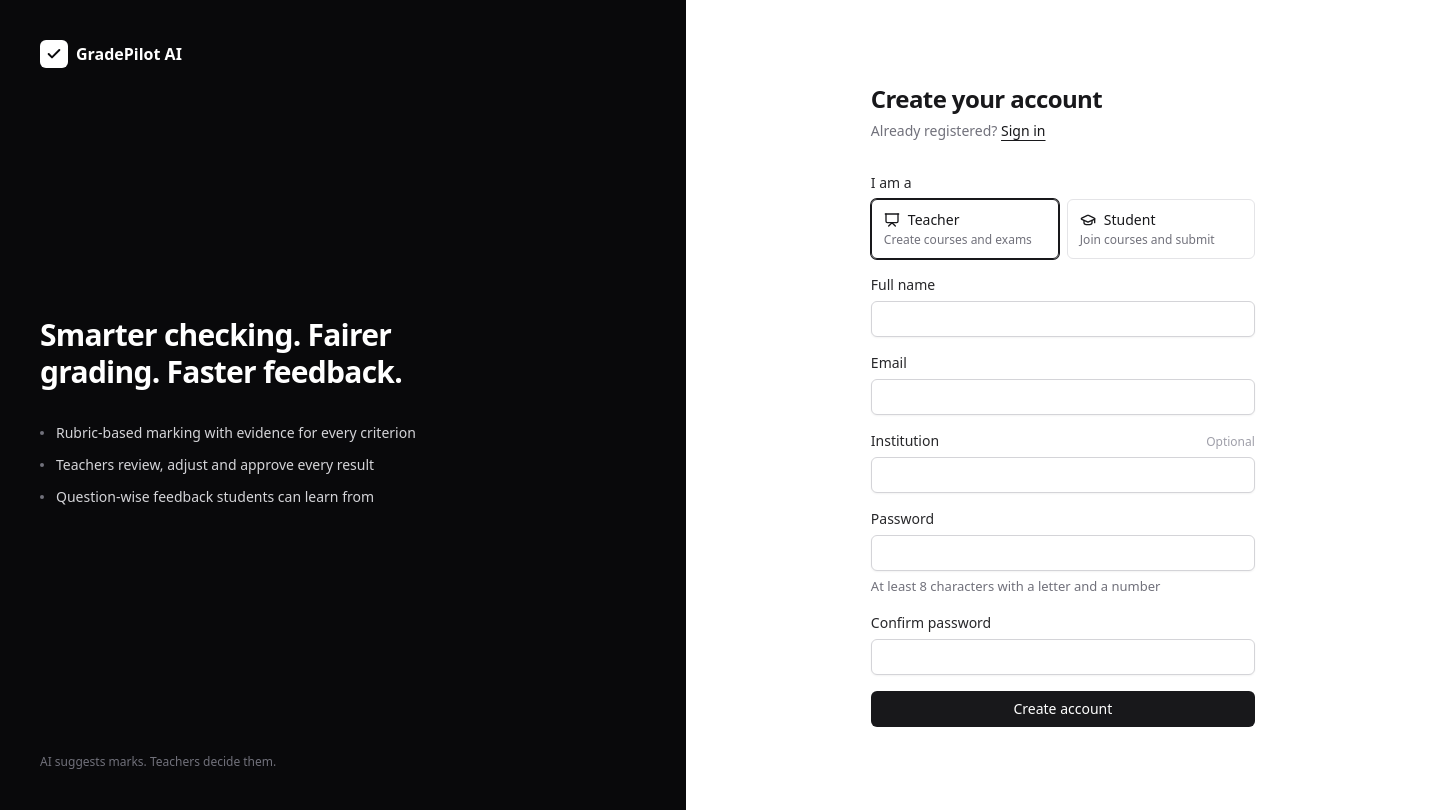
Test: registration › requires a student ID only for students
expect the heading "Create your account" is shown: met, box [871,82,1102,115]
expect the field labelled "Student ID" is not shown: met
Click the radio button labelled "Student Join courses and submit" at [1161, 229], box [1067,199,1255,259]
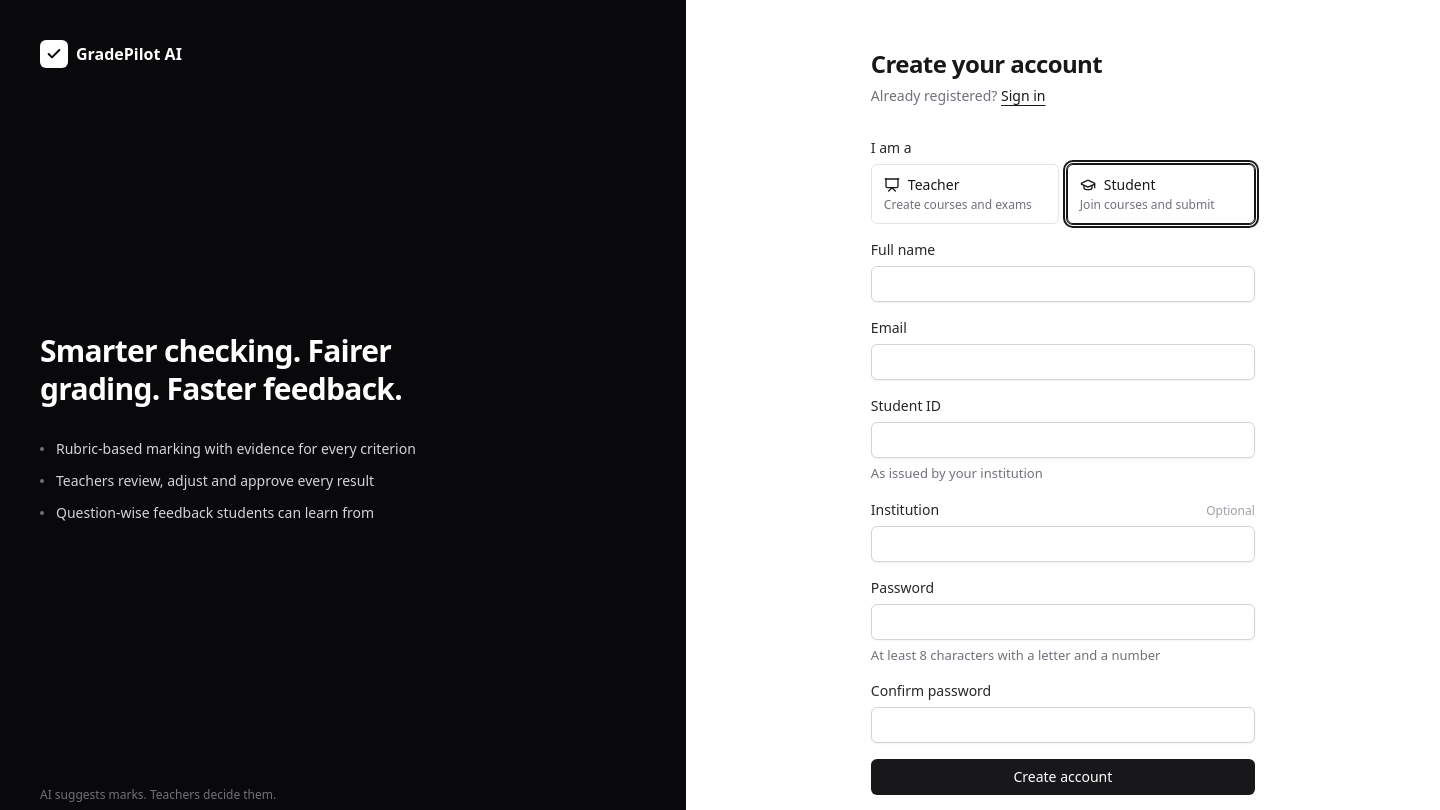
expect the field labelled "Student ID" is shown: met, box [871,422,1255,458]
Type "Sam Student" into the field labelled "Full name" at [1063, 284], box [871,266,1255,302]
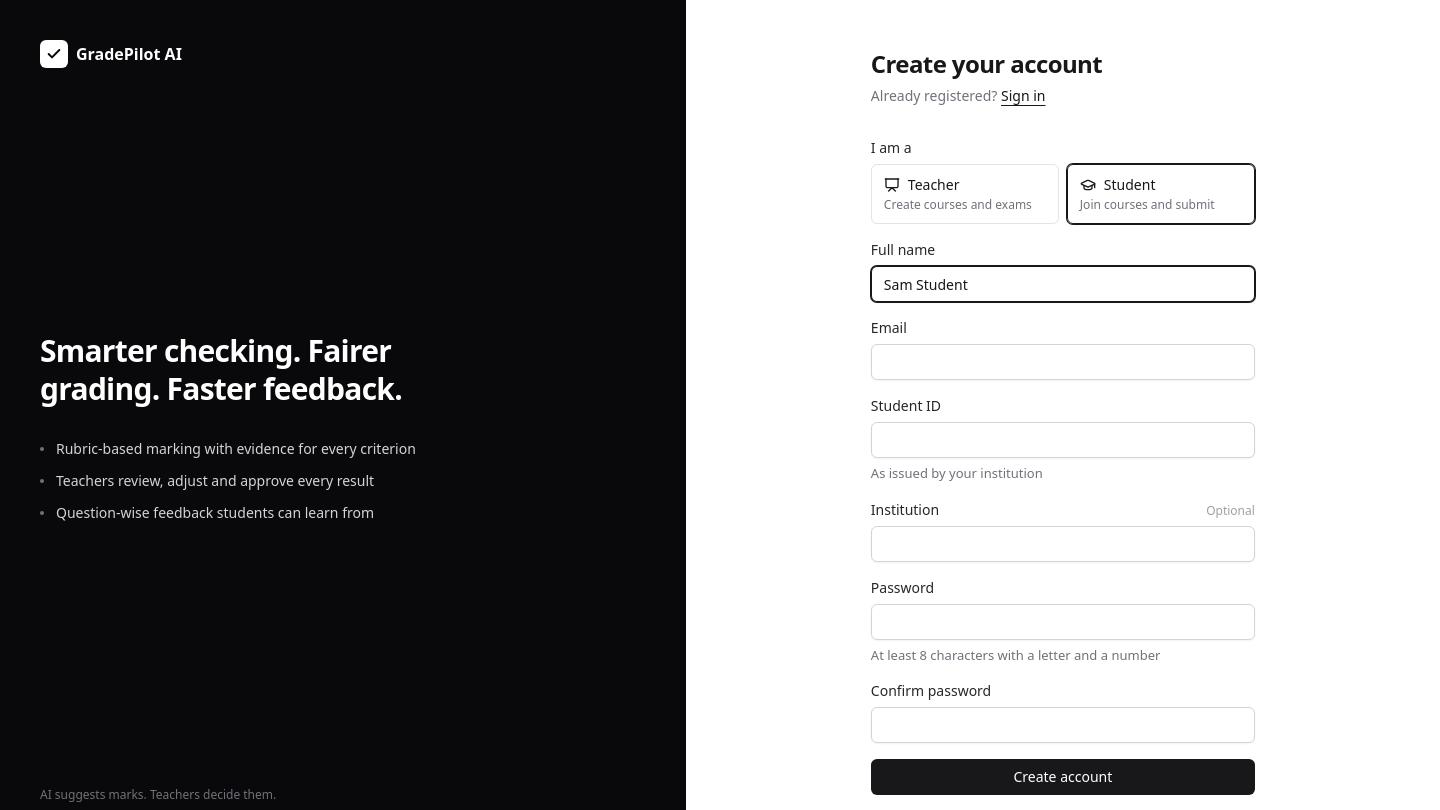
Type "sam@example.edu" into the field labelled "Email" at [1063, 362], box [871,344,1255,380]
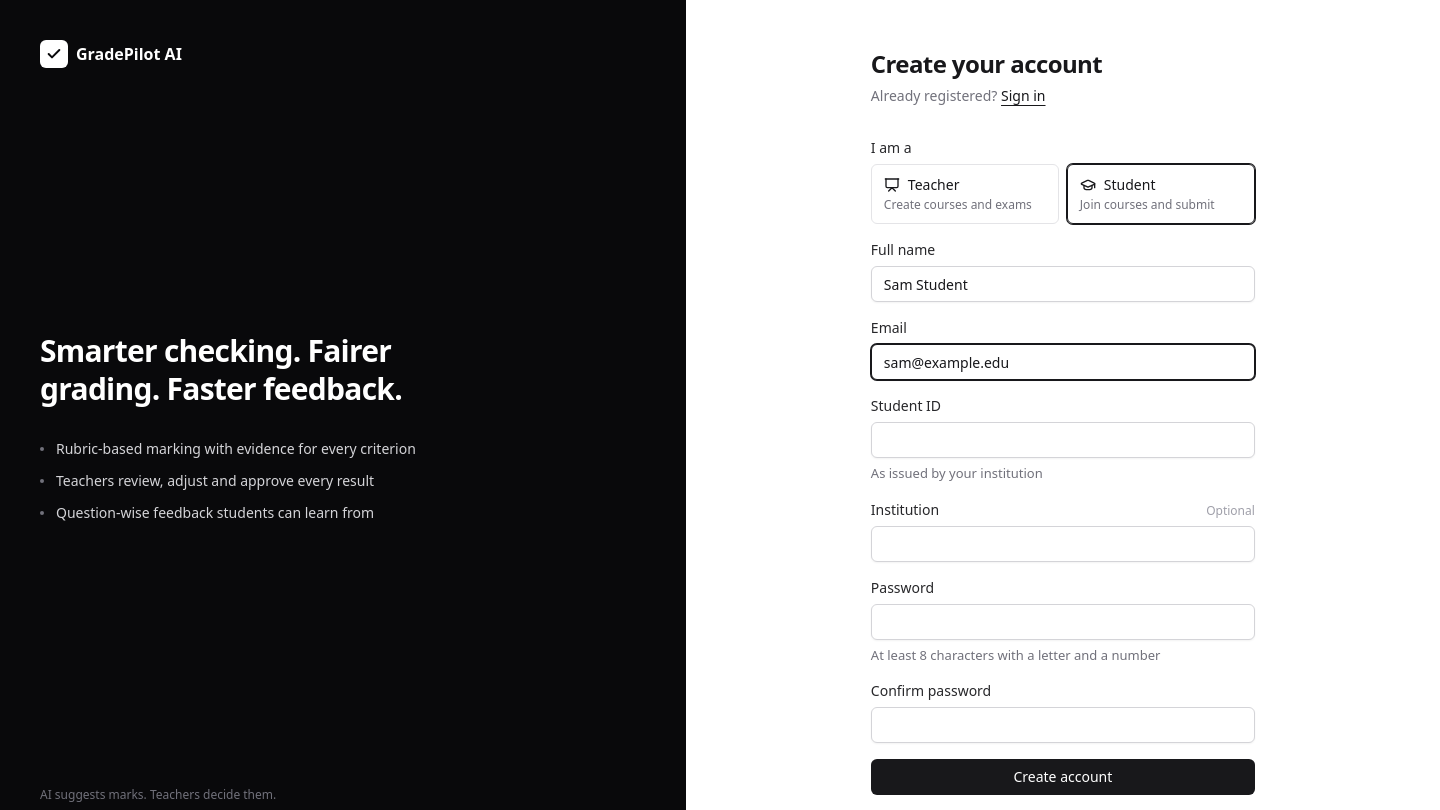
Type "Passw0rd1" into the password field labelled "Password" at [1063, 622], box [871,604,1255,640]
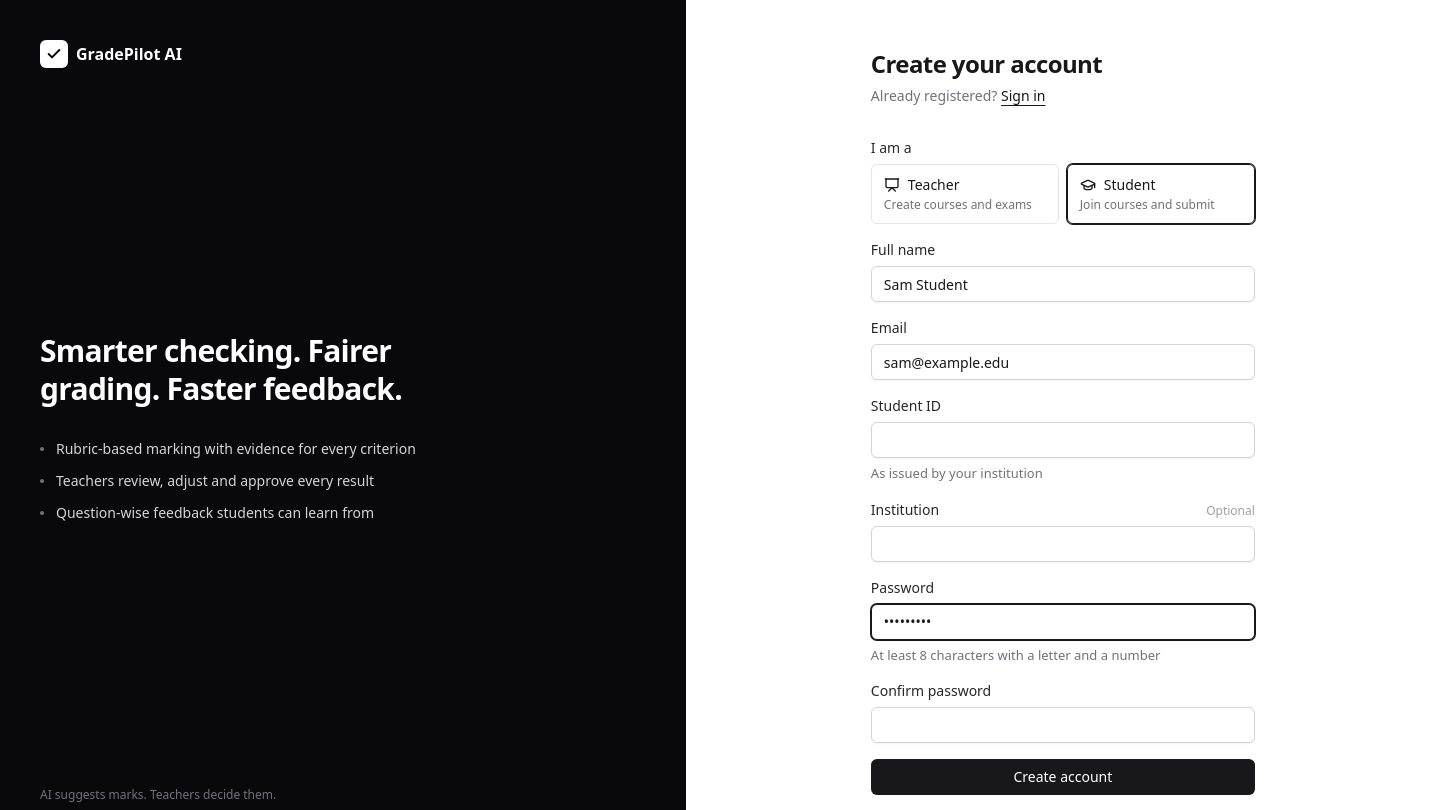
Type "Passw0rd1" into the password field labelled "Confirm password" at [1063, 725], box [871,707,1255,743]
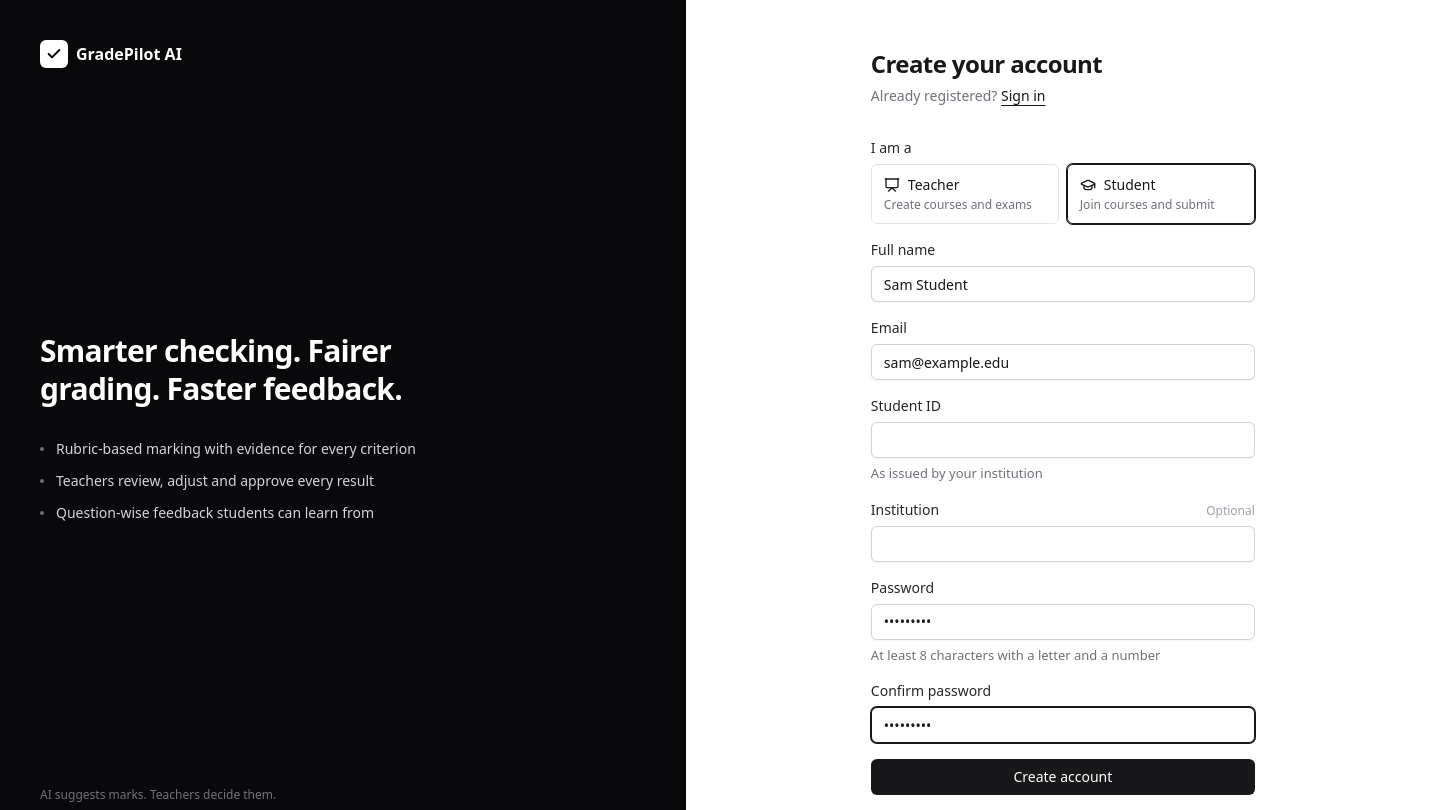
Click the button "Create account" at [1063, 777], box [871,759,1255,795]
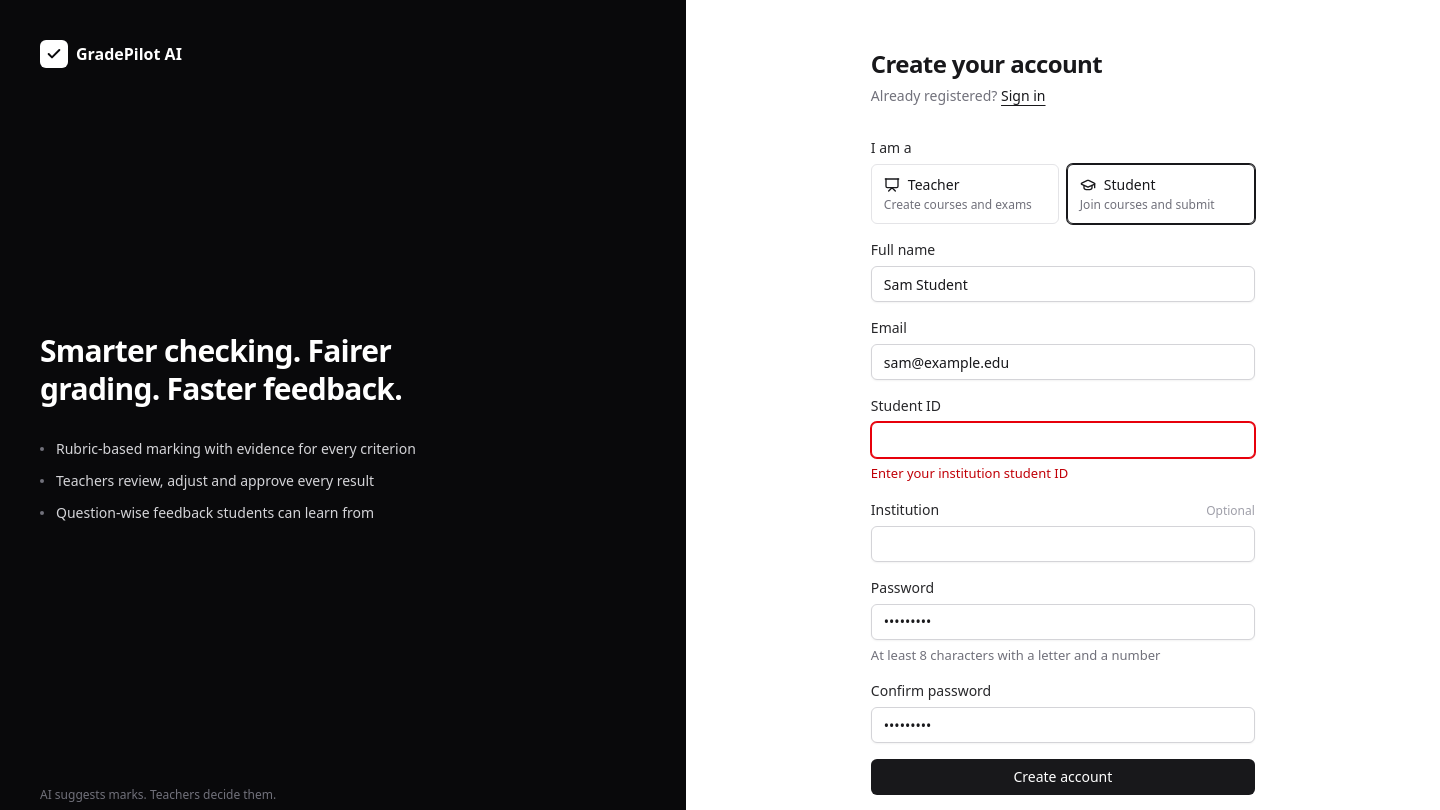
expect the text "Enter your institution student ID" is shown: met, box [871,464,1068,482]
